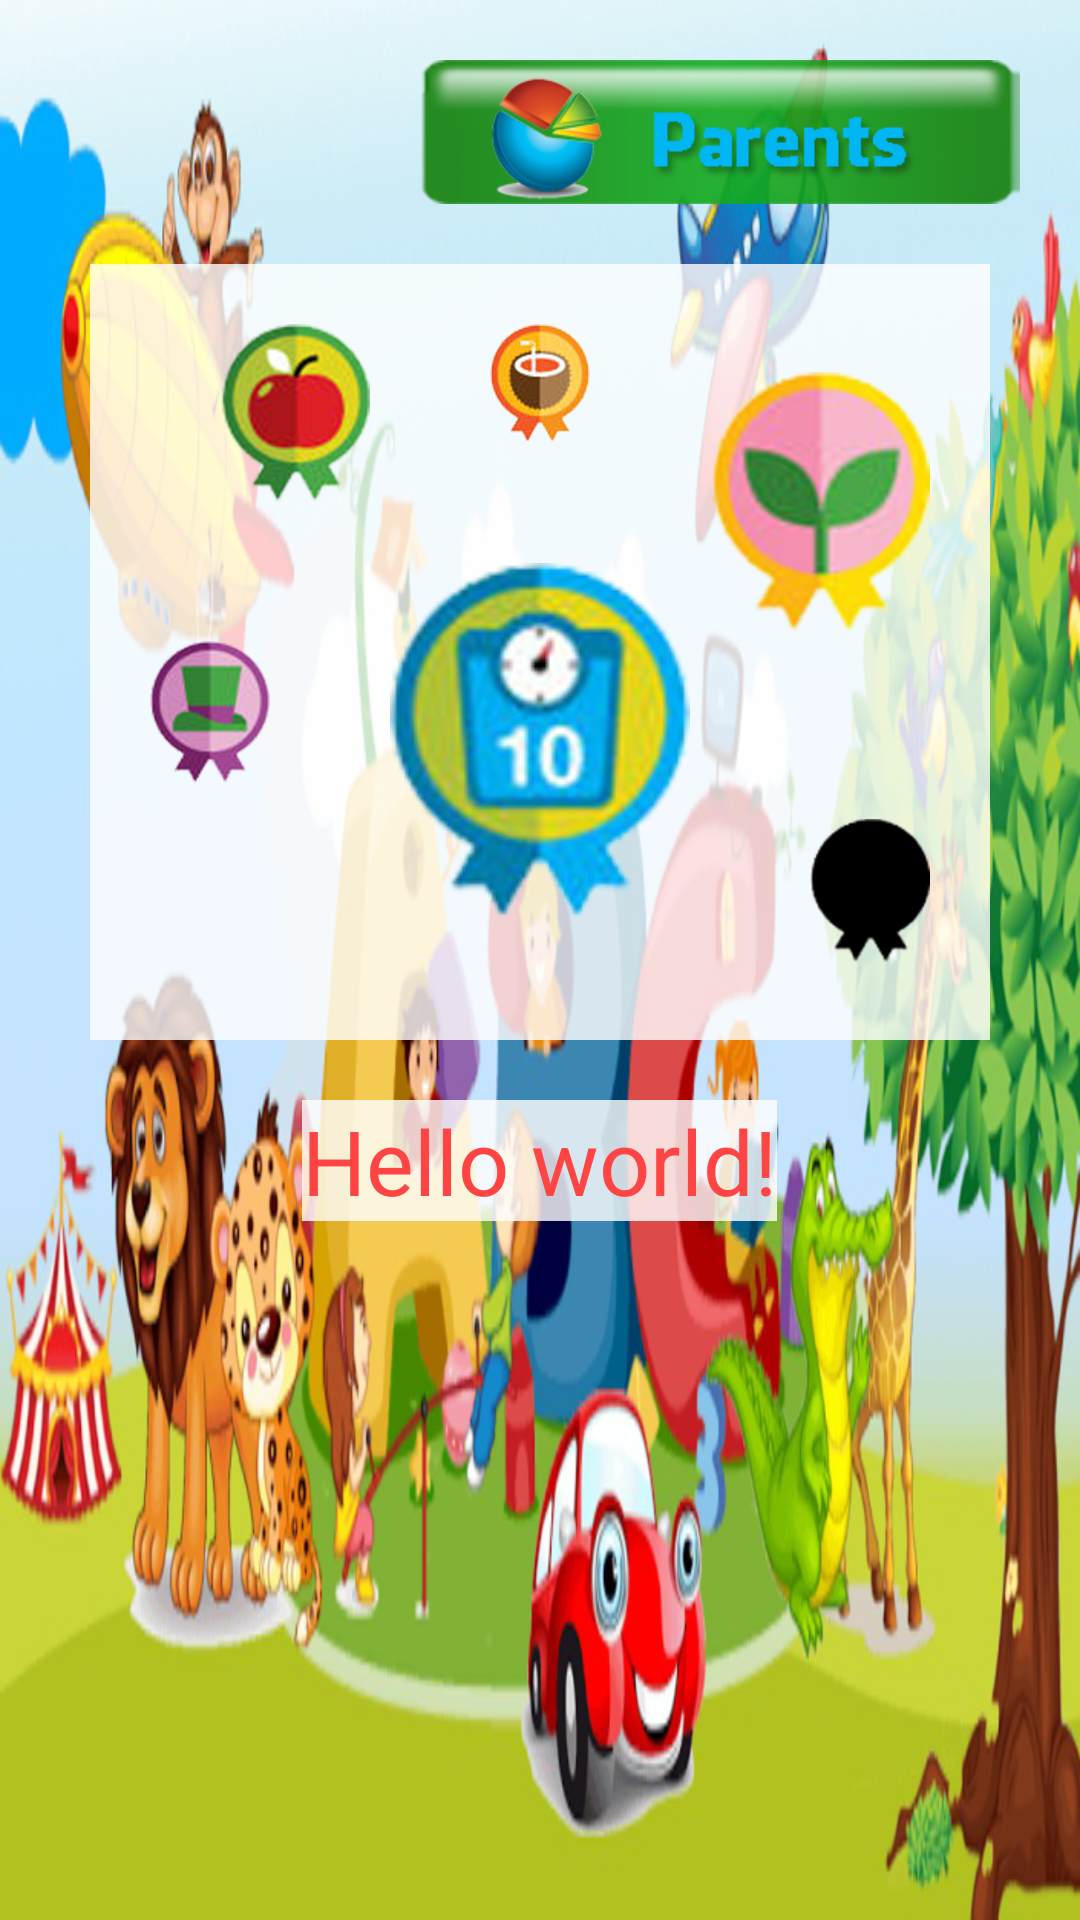

Where to tap for icons on this 1080px×1920px app screen, as point (x, y):
badge: point (295, 413), point (540, 382), point (820, 502), point (540, 741), point (210, 702), point (870, 890)
